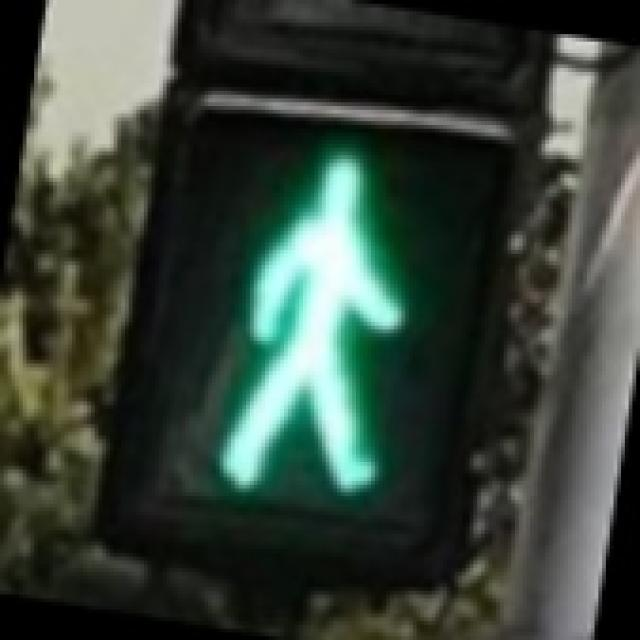green_light: (118, 76, 512, 553)
